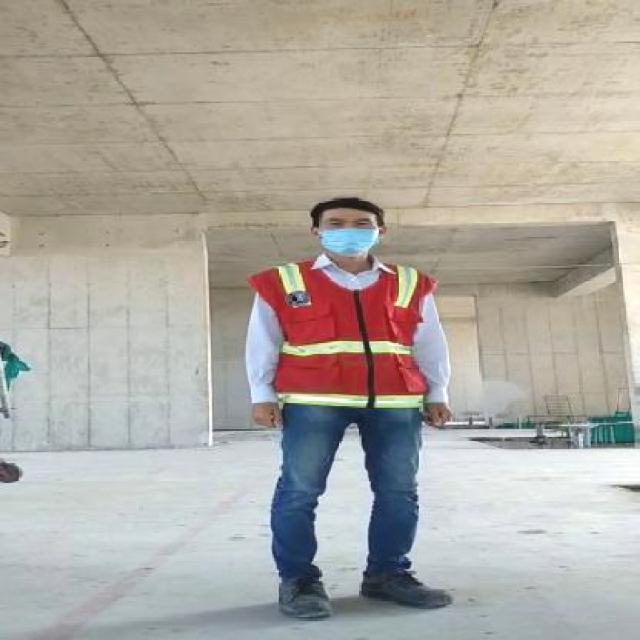face_mask: (317, 216, 380, 256)
hand_noglove: (249, 397, 289, 432), (419, 396, 456, 430)
head_nohelmet: (306, 192, 388, 220)
person: (244, 188, 451, 628)
shoes: (352, 558, 462, 616), (266, 560, 348, 626)
vest: (248, 253, 442, 418)
